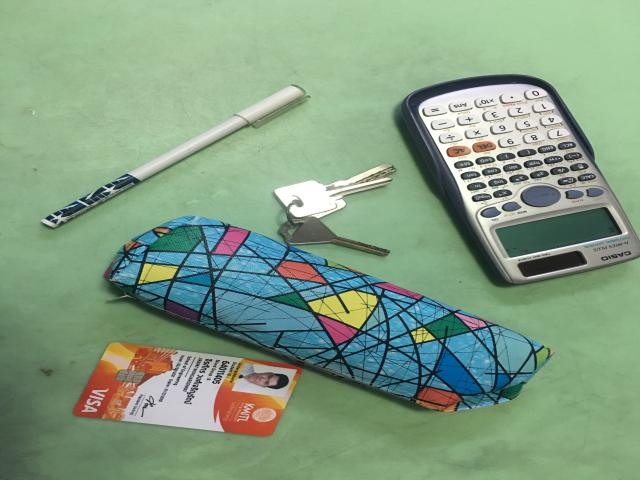Keys: (275, 163, 397, 256)
Pen: (41, 86, 307, 230)
